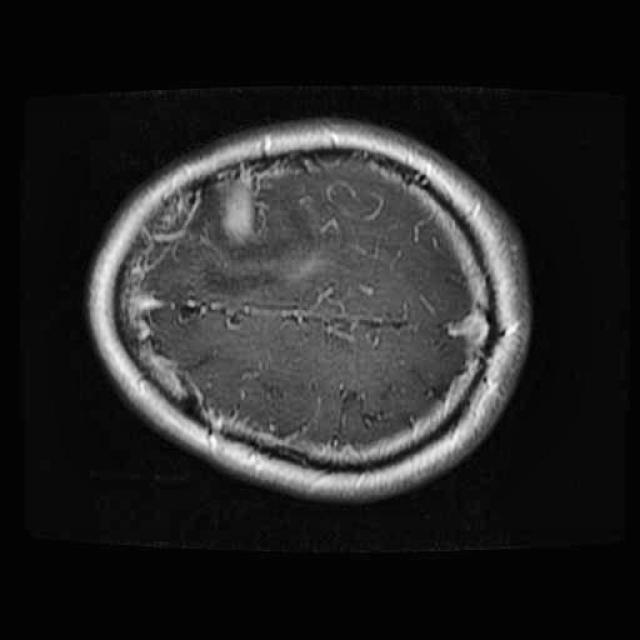Tumor: (212, 165, 266, 260)
